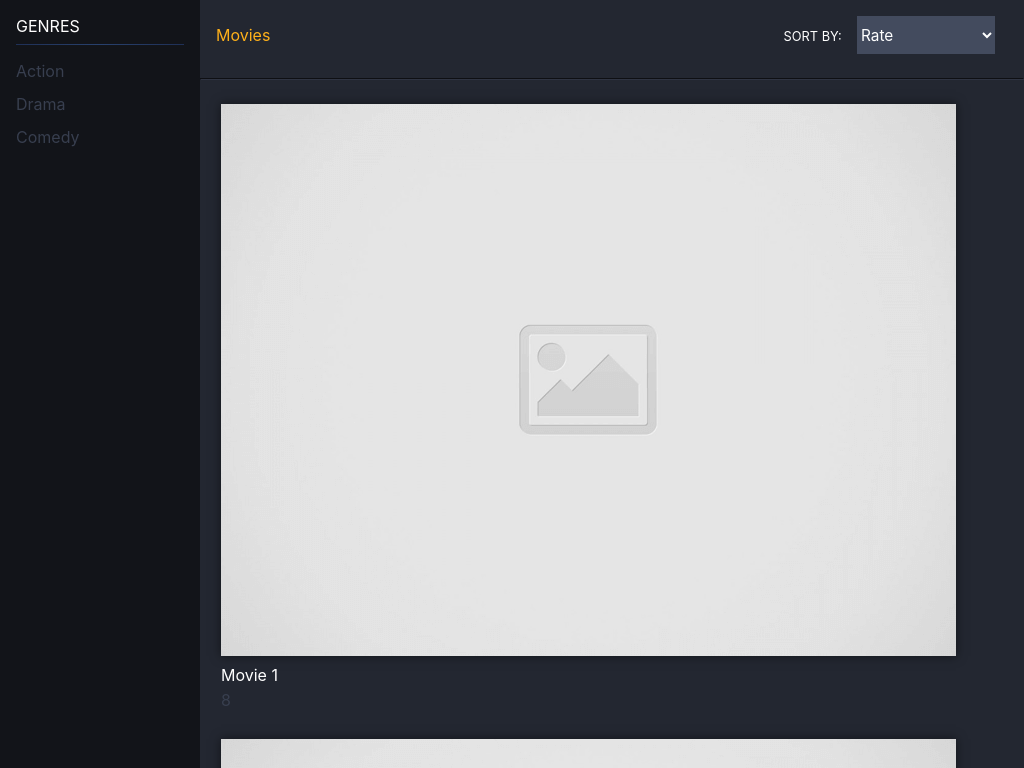
Test: Container › filters the movies by genre
Expected: the text "Movie 1" is shown, [221, 665, 278, 685]
Click the link "Drama": (41, 104) [16, 94, 66, 114]
(page scrolled)
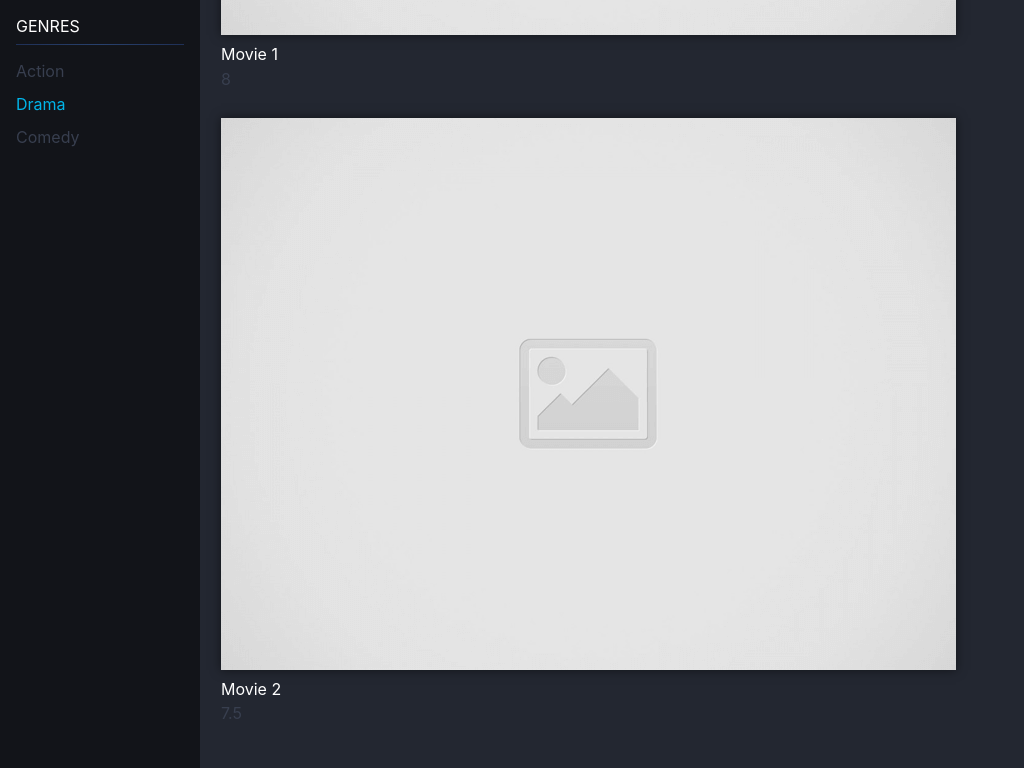
Expected: the text "Movie 1" is shown, [221, 44, 278, 64]
Result: the text "Movie 2" is shown at [221, 679, 281, 699]
